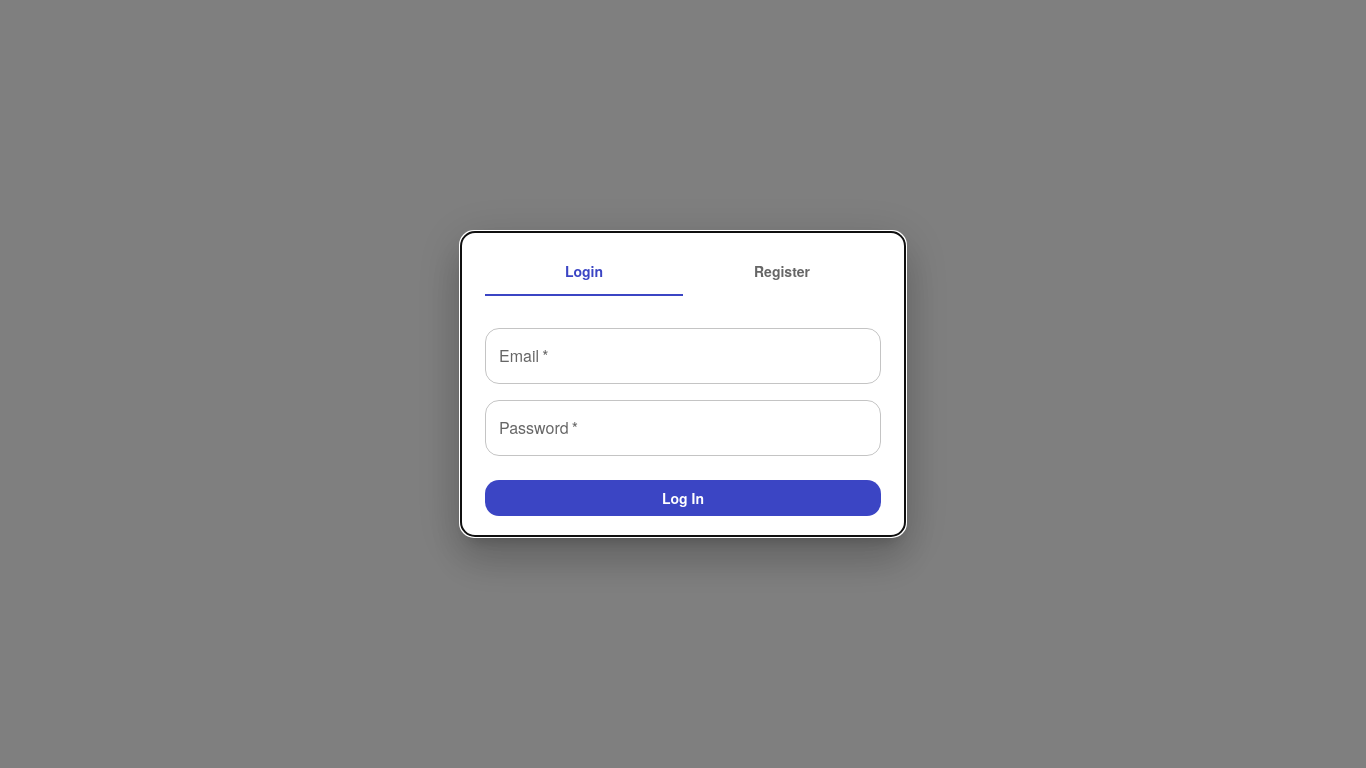
Scenario: LoginRegisterModal › asks for a full name on the Register tab
Expected: the field labelled "full name" is not shown
Step 1. Click the tab "Register" → (782, 272), box [683, 248, 881, 296]
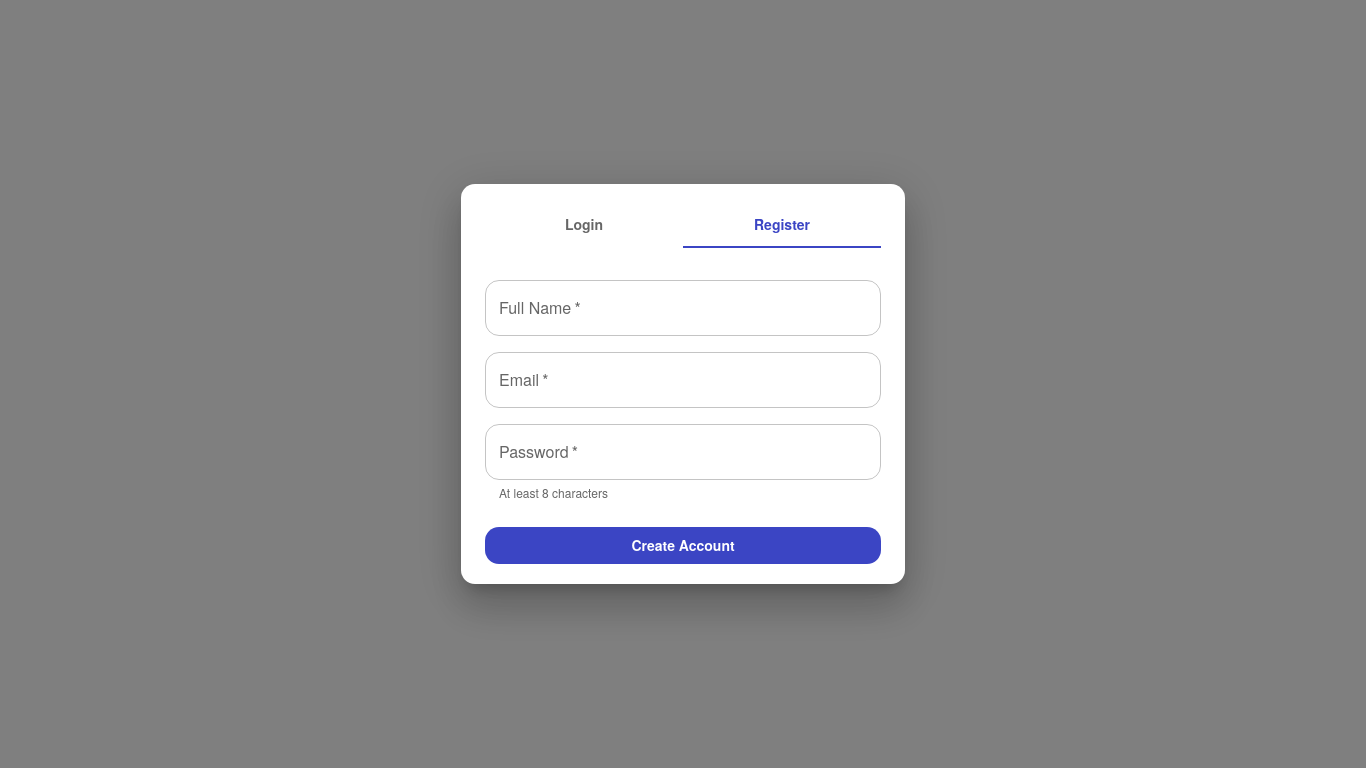
Expected: the field labelled "Full Name *" is shown, [485, 280, 881, 336]
